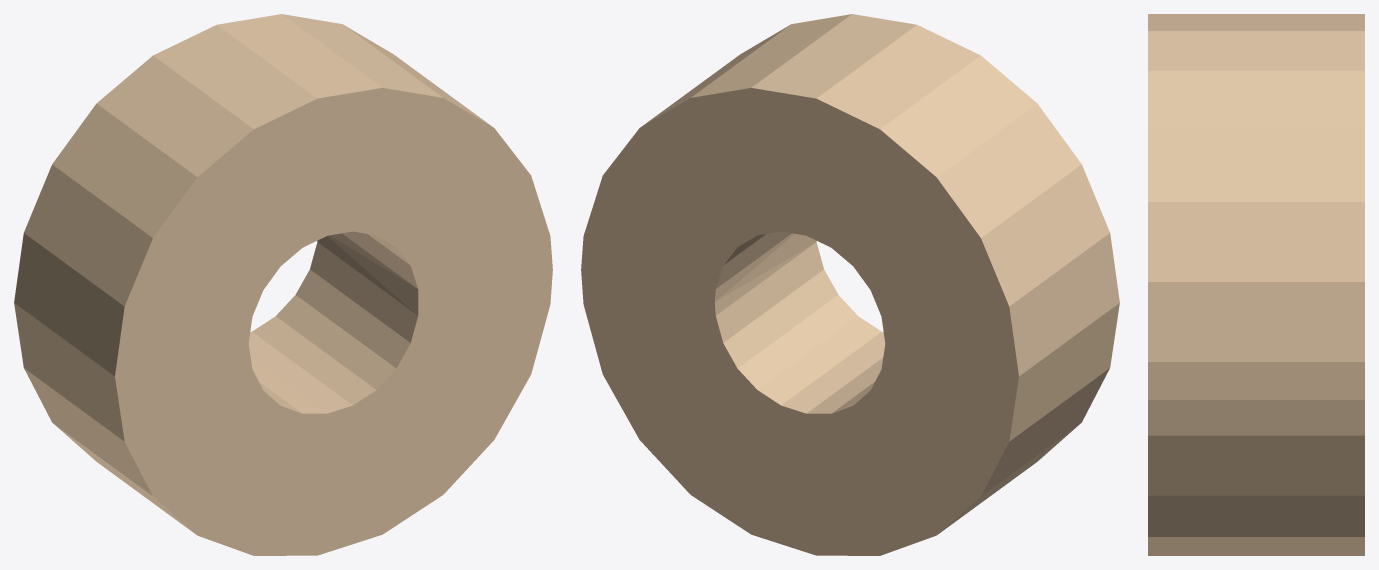
File: crank_bushing.glb
The picture shows the model from 3 angles, left to right: view 1: azimuth 30°, elevation 25°; view 2: azimuth 150°, elevation 25°; view 3: azimuth 270°, elevation 25°; orthographic projection. The views are drawn at different scales.
Parts seen in each view (by area): view 1: Node1; view 2: Node1; view 3: Node1.
Boxes of the visible parts, x1,y1,x2,y2 form: Node1: (14,14,552,555); Node1: (581,14,1119,555); Node1: (1148,14,1364,555).
Size of the model in its own units: 4.76 by 4.75 by 1.9.
